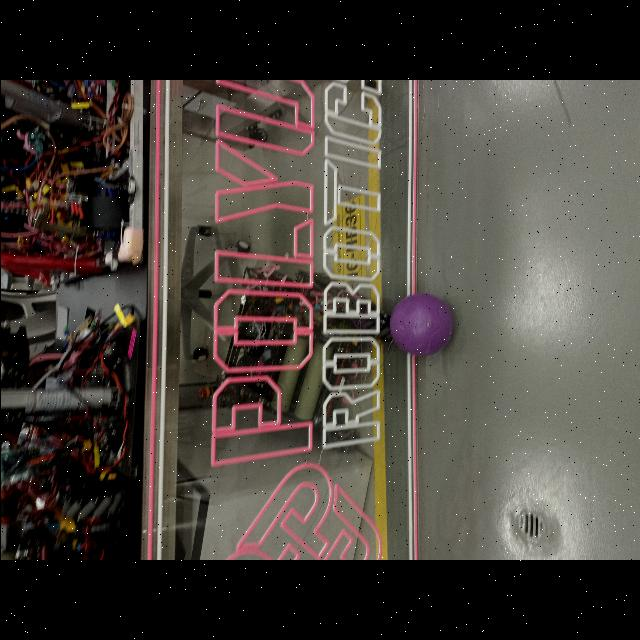P: (387, 290, 453, 358)
